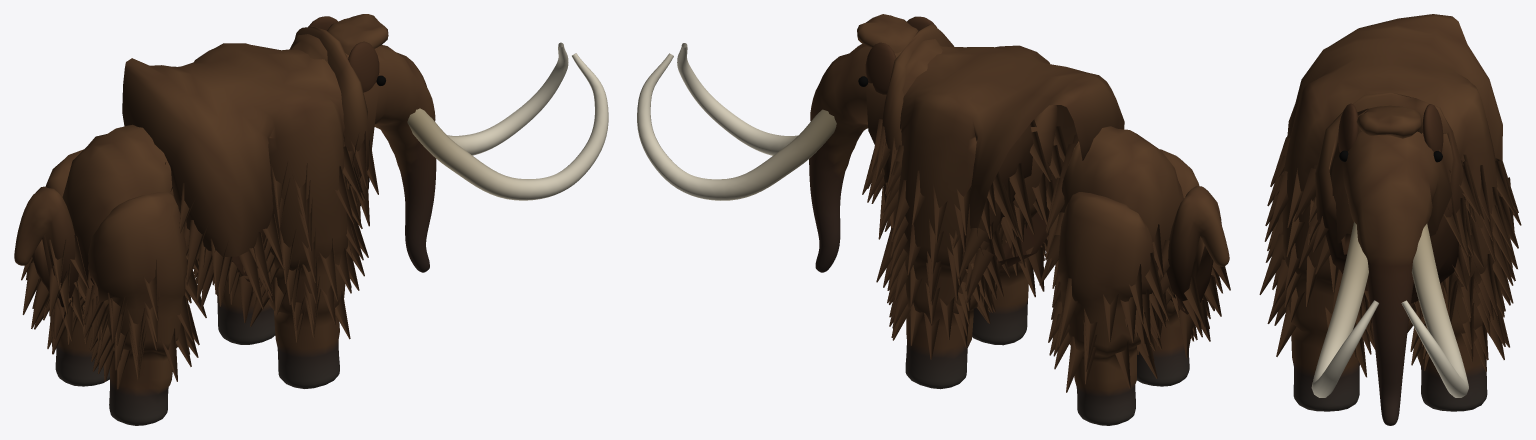
The model's file is prop-mammoth.fa1dbb3f.glb.
3 views of the same model, side by side, from view 1: azimuth 30°, elevation 25°; view 2: azimuth 150°, elevation 25°; view 3: azimuth 270°, elevation 25° (orthographic). The views are drawn at different scales.
Visible parts, largest first — view 1: mammoth; view 2: mammoth; view 3: mammoth.
Boxes of the visible parts, left/top/right/bottom form: mammoth: left=14, top=14, right=608, bottom=425; mammoth: left=637, top=14, right=1230, bottom=425; mammoth: left=1259, top=14, right=1521, bottom=425.
Size of the model in its own units: 6.15 by 3.26 by 2.3.
